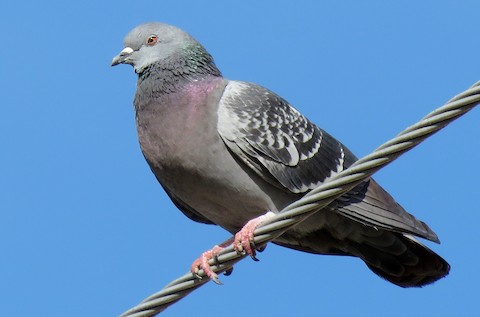pigeon: (110, 20, 453, 290)
